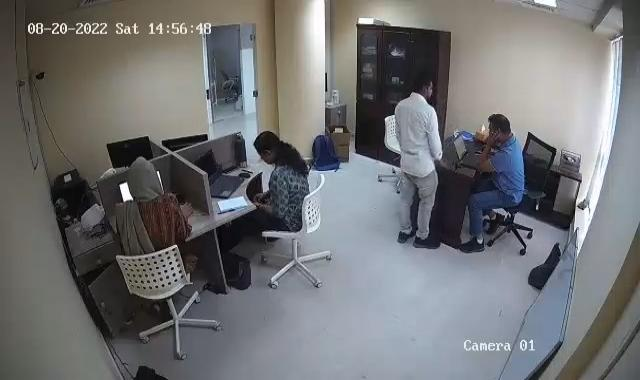no_hairnet: (123, 157, 162, 200), (252, 129, 288, 168), (485, 114, 514, 144), (412, 71, 437, 102)
